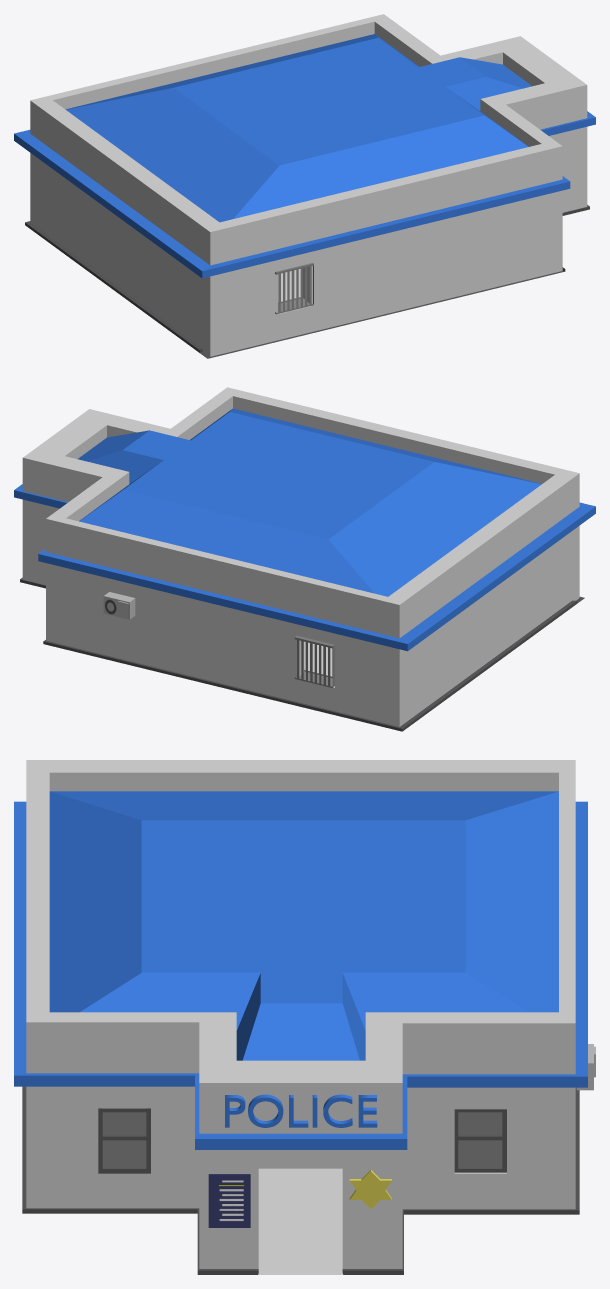
File: police station.fbx
3 views of the same model, one above another, from view 1: azimuth 30°, elevation 25°; view 2: azimuth 150°, elevation 25°; view 3: azimuth 270°, elevation 25° (orthographic). The views are drawn at different scales.
Parts seen in each view (by area): view 1: police station roof, Cube, Cube.019; view 2: police station roof, Cube, Cube.017, Cube.013; view 3: police station roof, Cube, Plane.001, Plane, Plane.003, Plane.002.
Boxes of the visible parts, <box> form: police station roof: <box>30,14,587,265</box>; Cube: <box>14,111,595,358</box>; Cube.019: <box>275,263,313,314</box>; police station roof: <box>22,387,579,638</box>; Cube: <box>14,484,595,731</box>; Cube.017: <box>294,635,334,687</box>; Cube.013: <box>103,592,135,619</box>; police station roof: <box>26,760,575,1133</box>; Cube: <box>14,801,587,1274</box>; Plane.001: <box>98,1108,150,1173</box>; Plane: <box>454,1109,506,1172</box>; Plane.003: <box>208,1174,250,1227</box>; Plane.002: <box>349,1170,391,1208</box>.
Size of the model in its own units: 37.86 by 10.99 by 27.61.
